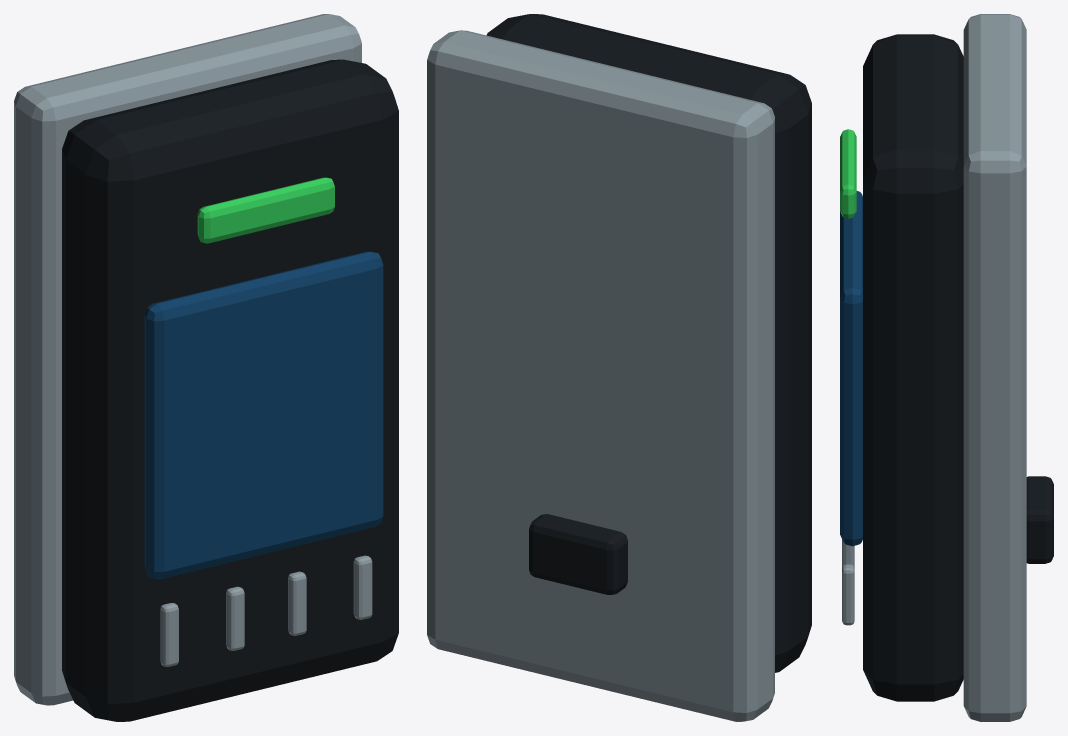
Rendered from edited.glb.
The picture shows the model from 3 angles, left to right: view 1: azimuth 30°, elevation 25°; view 2: azimuth 150°, elevation 25°; view 3: azimuth 270°, elevation 25°; orthographic projection. The views are drawn at different scales.
Parts seen in each view (by area): view 1: READER_Enclosure, RFID_Pad, WALL_Backplate, STATUS_Indicator, SPEAKER_Slot.003, SPEAKER_Slot.001, SPEAKER_Slot.002, SPEAKER_Slot; view 2: WALL_Backplate, READER_Enclosure, CABLE_Entry; view 3: READER_Enclosure, WALL_Backplate, RFID_Pad, CABLE_Entry, STATUS_Indicator, SPEAKER_Slot.003.
Part boxes in pixels (<box>): READER_Enclosure: <box>62,59,398,721</box>; RFID_Pad: <box>144,251,383,578</box>; WALL_Backplate: <box>14,14,361,705</box>; STATUS_Indicator: <box>197,177,334,243</box>; SPEAKER_Slot.003: <box>353,555,372,619</box>; SPEAKER_Slot.001: <box>226,586,244,650</box>; SPEAKER_Slot.002: <box>288,571,306,635</box>; SPEAKER_Slot: <box>160,603,178,666</box>; WALL_Backplate: <box>427,30,774,721</box>; READER_Enclosure: <box>486,14,811,672</box>; CABLE_Entry: <box>529,514,627,594</box>; READER_Enclosure: <box>863,34,963,701</box>; WALL_Backplate: <box>963,14,1026,721</box>; RFID_Pad: <box>840,191,862,546</box>; CABLE_Entry: <box>1026,476,1053,563</box>; STATUS_Indicator: <box>840,129,856,218</box>; SPEAKER_Slot.003: <box>842,564,854,625</box>.
Size of the model in its own units: 0.085 by 0.15 by 0.051.
